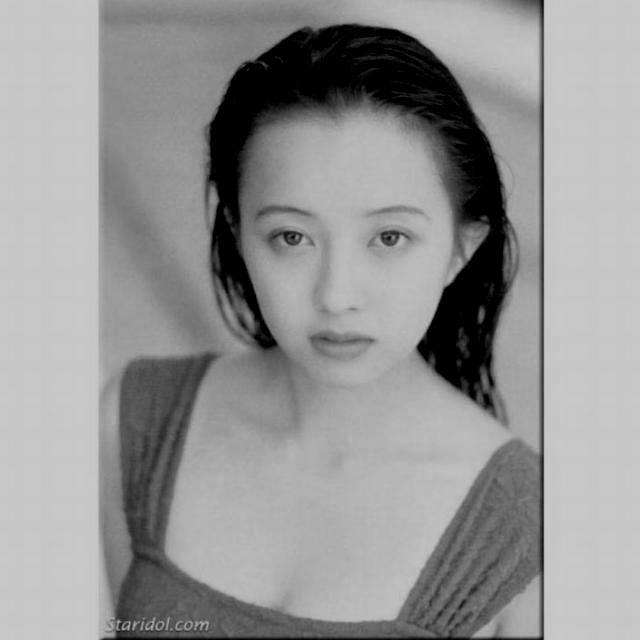real: (218, 22, 470, 398)
